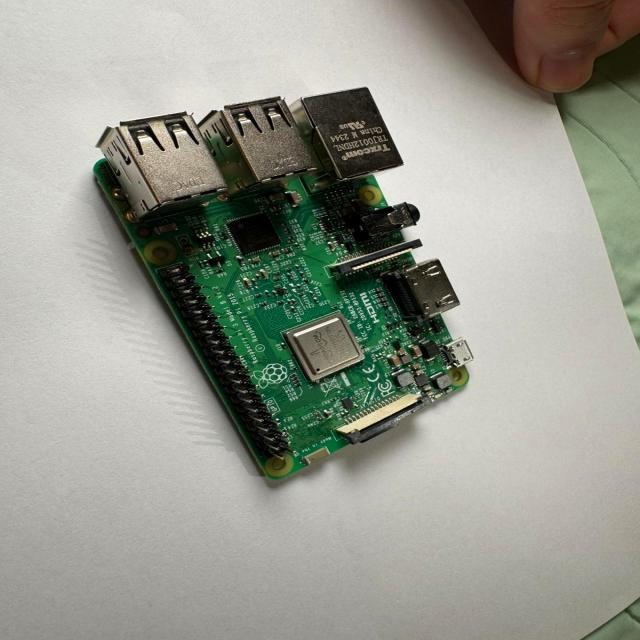CPU: (277, 310, 369, 382)
Ethernet: (292, 83, 411, 199)
GPIO: (153, 259, 302, 461)
HDMI: (386, 255, 465, 330)
RAM-3: (222, 211, 285, 258)
Raspberry: (86, 83, 488, 491)
